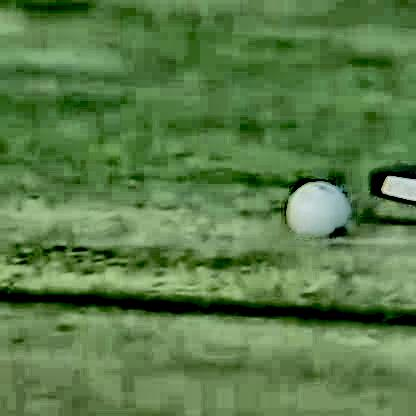golfball: (282, 181, 345, 238)
